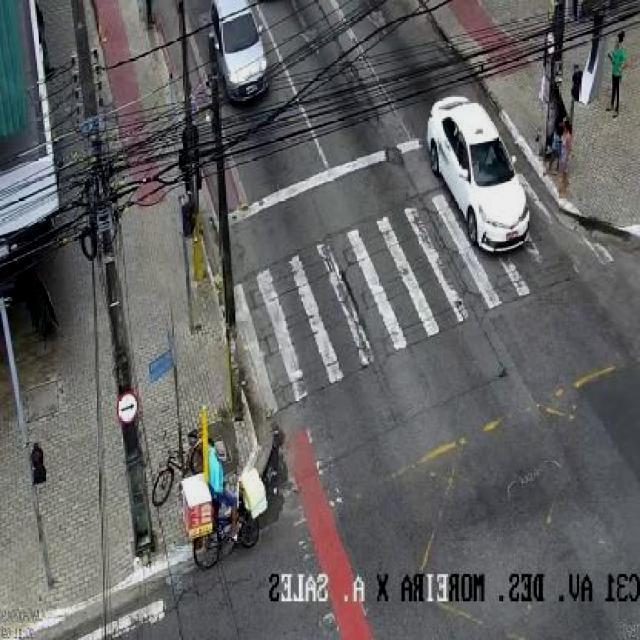Car: (422, 82, 548, 258), (198, 0, 275, 110)
Cycle: (139, 448, 227, 574)
